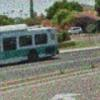buses: (0, 24, 57, 65)
